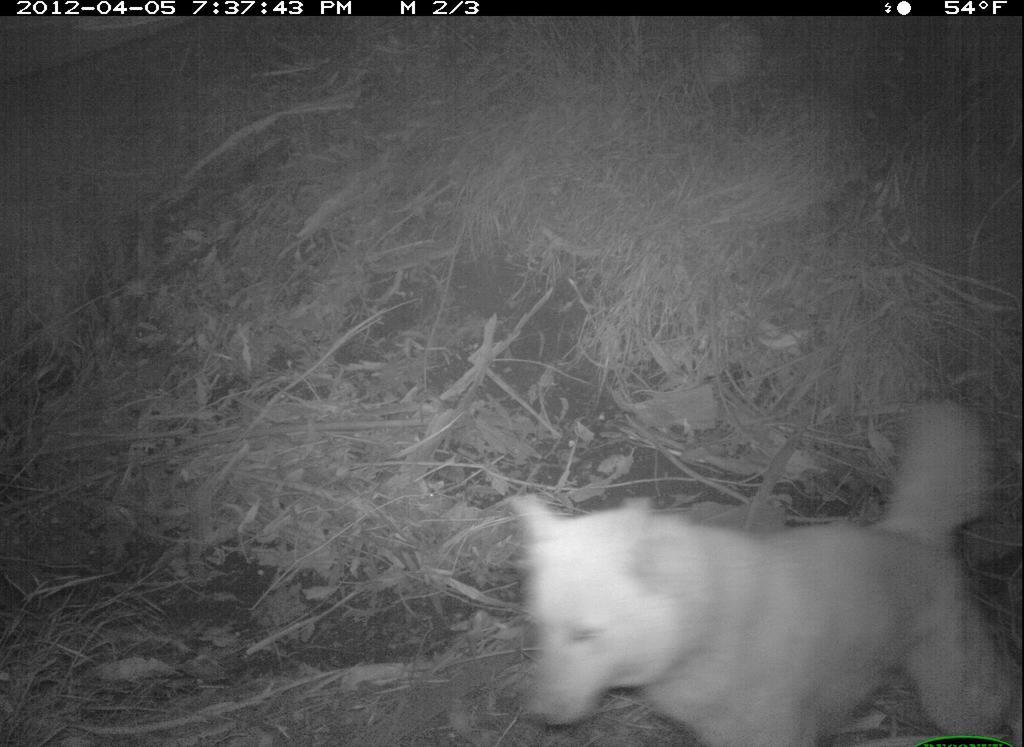dog: (493, 381, 1005, 747)
